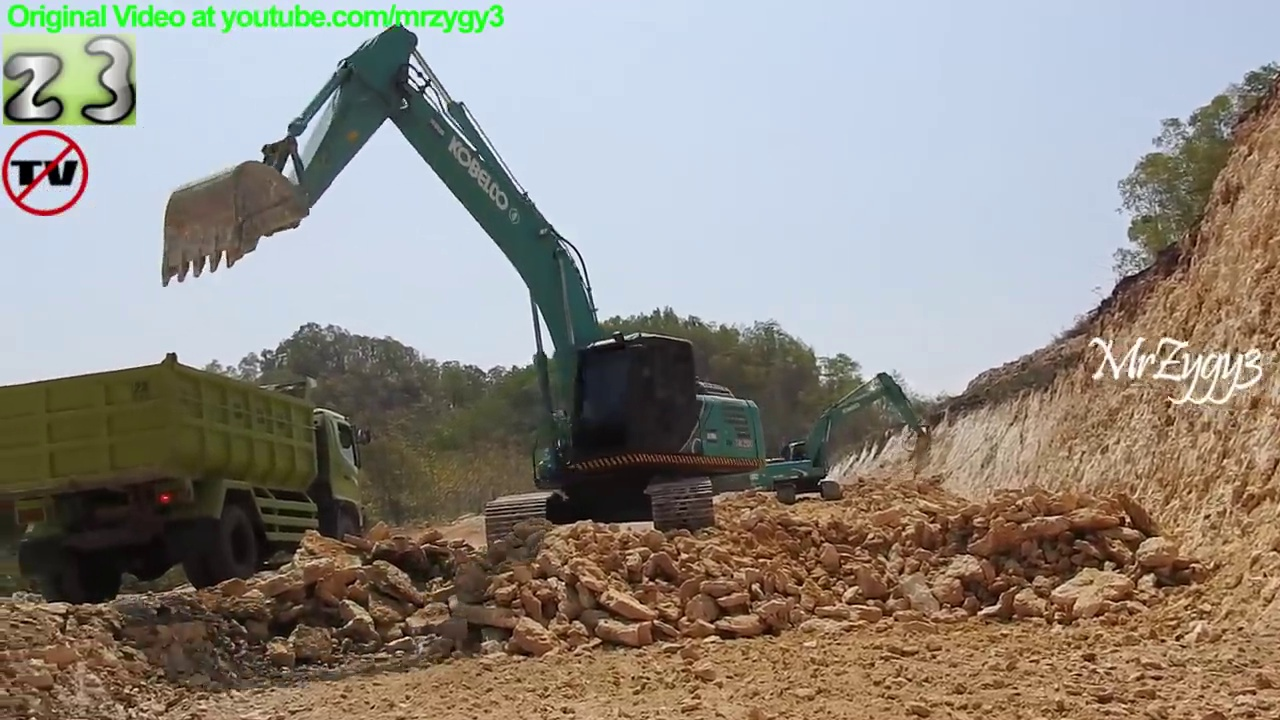excavator: (153, 17, 772, 565)
excavator breaker: (750, 368, 933, 509)
truck: (1, 347, 379, 612)
